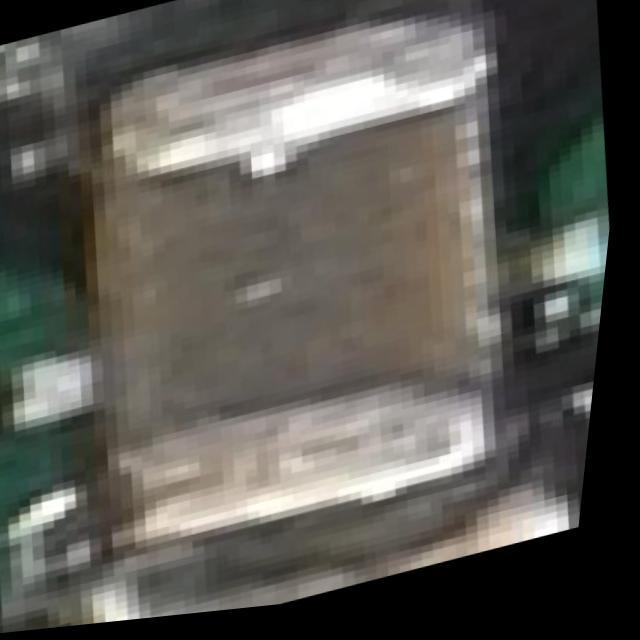Capacitor: (45, 0, 562, 571)
